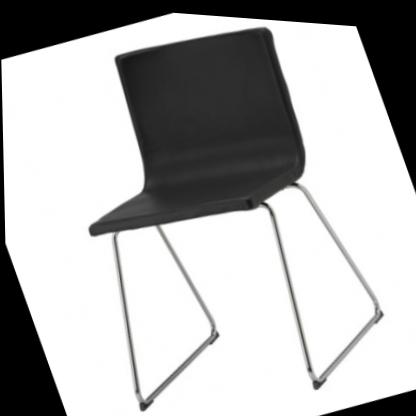Chair: (13, 1, 407, 416)
